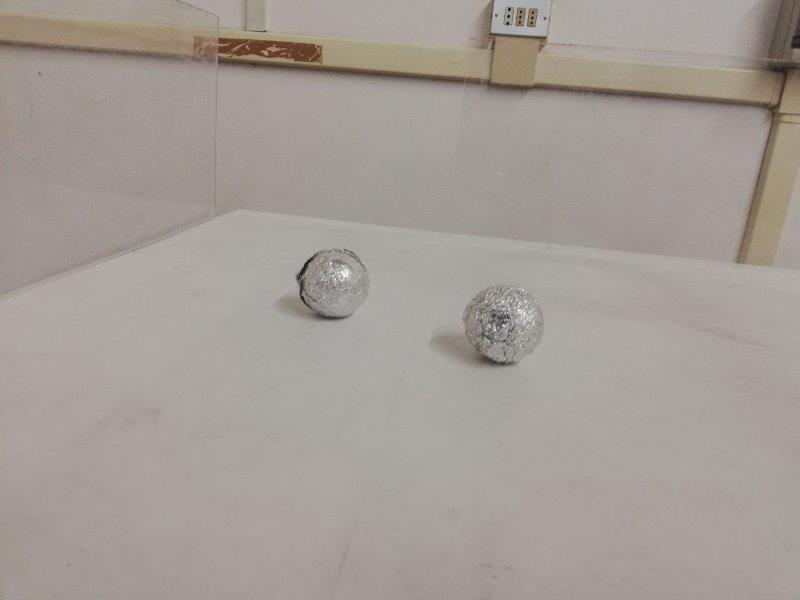bianca: (462, 285, 543, 363), (298, 250, 368, 319)
